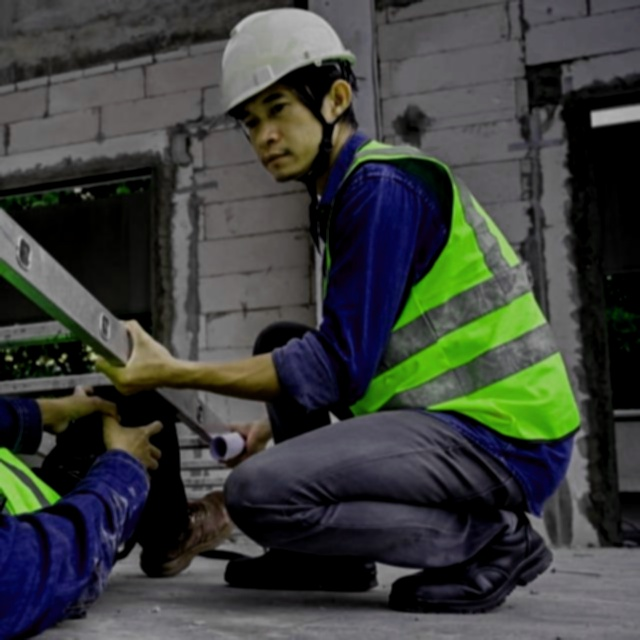Con_Casco: (217, 10, 356, 182)
Con_Chaleco: (303, 147, 571, 446)
